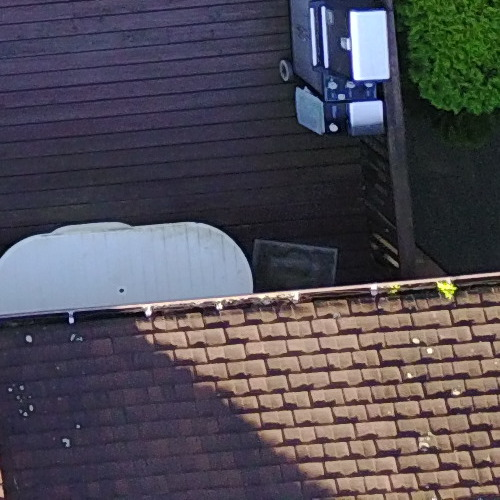porch: (1, 1, 475, 323)
